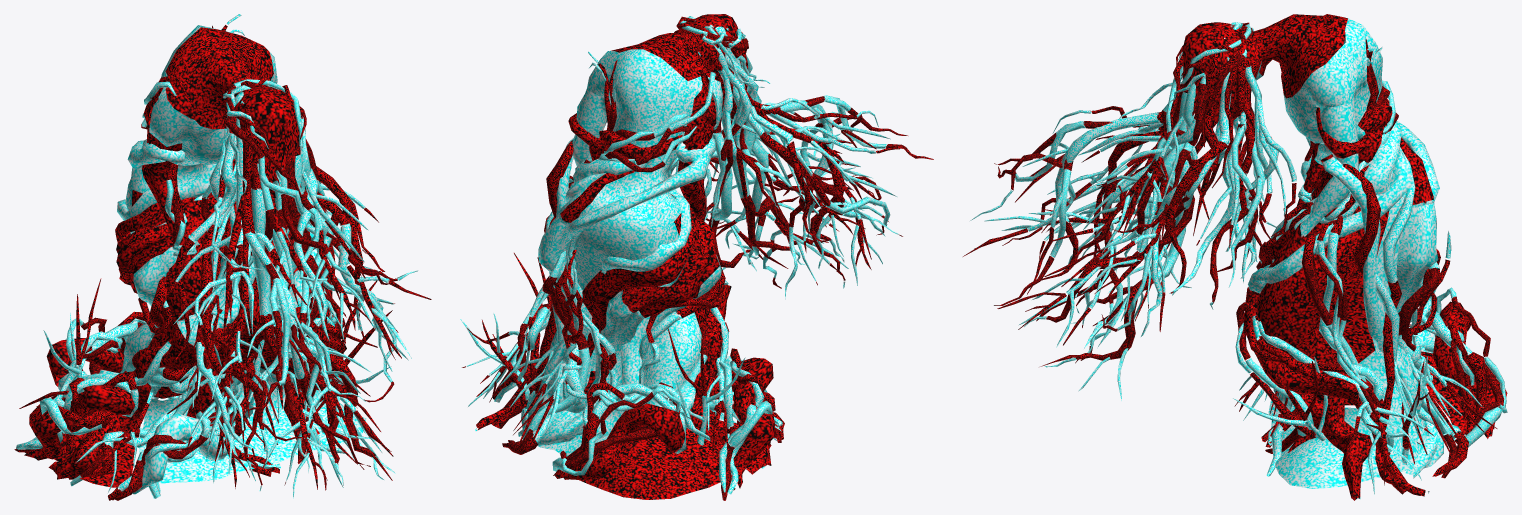
File: SM_GoldTree_03_GDH.fbx
The picture shows the model from 3 angles, left to right: view 1: azimuth 30°, elevation 25°; view 2: azimuth 150°, elevation 25°; view 3: azimuth 270°, elevation 25°; orthographic projection. The views are drawn at different scales.
Visible parts, largest first — view 1: SM_GoldTree_03_GDH; view 2: SM_GoldTree_03_GDH; view 3: SM_GoldTree_03_GDH.
Part boxes in pixels (bbox=[...]): SM_GoldTree_03_GDH: bbox=[14, 14, 431, 500]; SM_GoldTree_03_GDH: bbox=[460, 14, 933, 500]; SM_GoldTree_03_GDH: bbox=[963, 14, 1507, 500].
Bounding box in the file's own units: 575 × 712 × 844.
